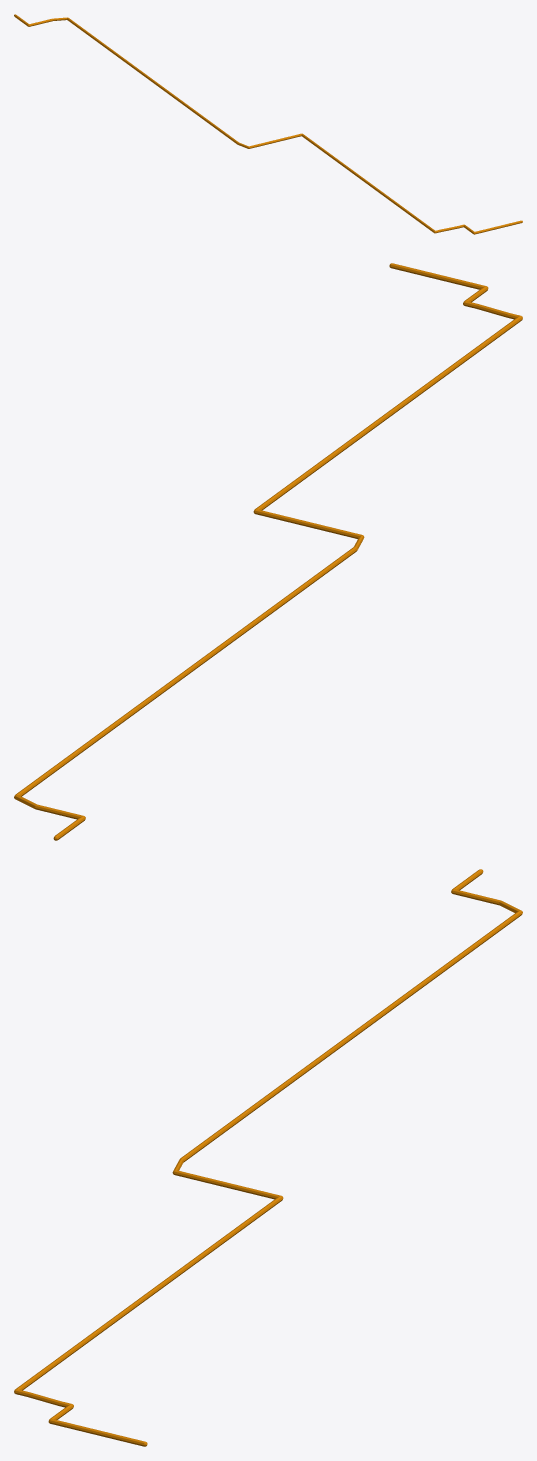
3 renders of one model, top to bottom at view 1: azimuth 30°, elevation 25°; view 2: azimuth 150°, elevation 25°; view 3: azimuth 330°, elevation 25°, orthographic. The views are drawn at different scales.
Size of the model in its own units: 1446 by 20 by 4969.
